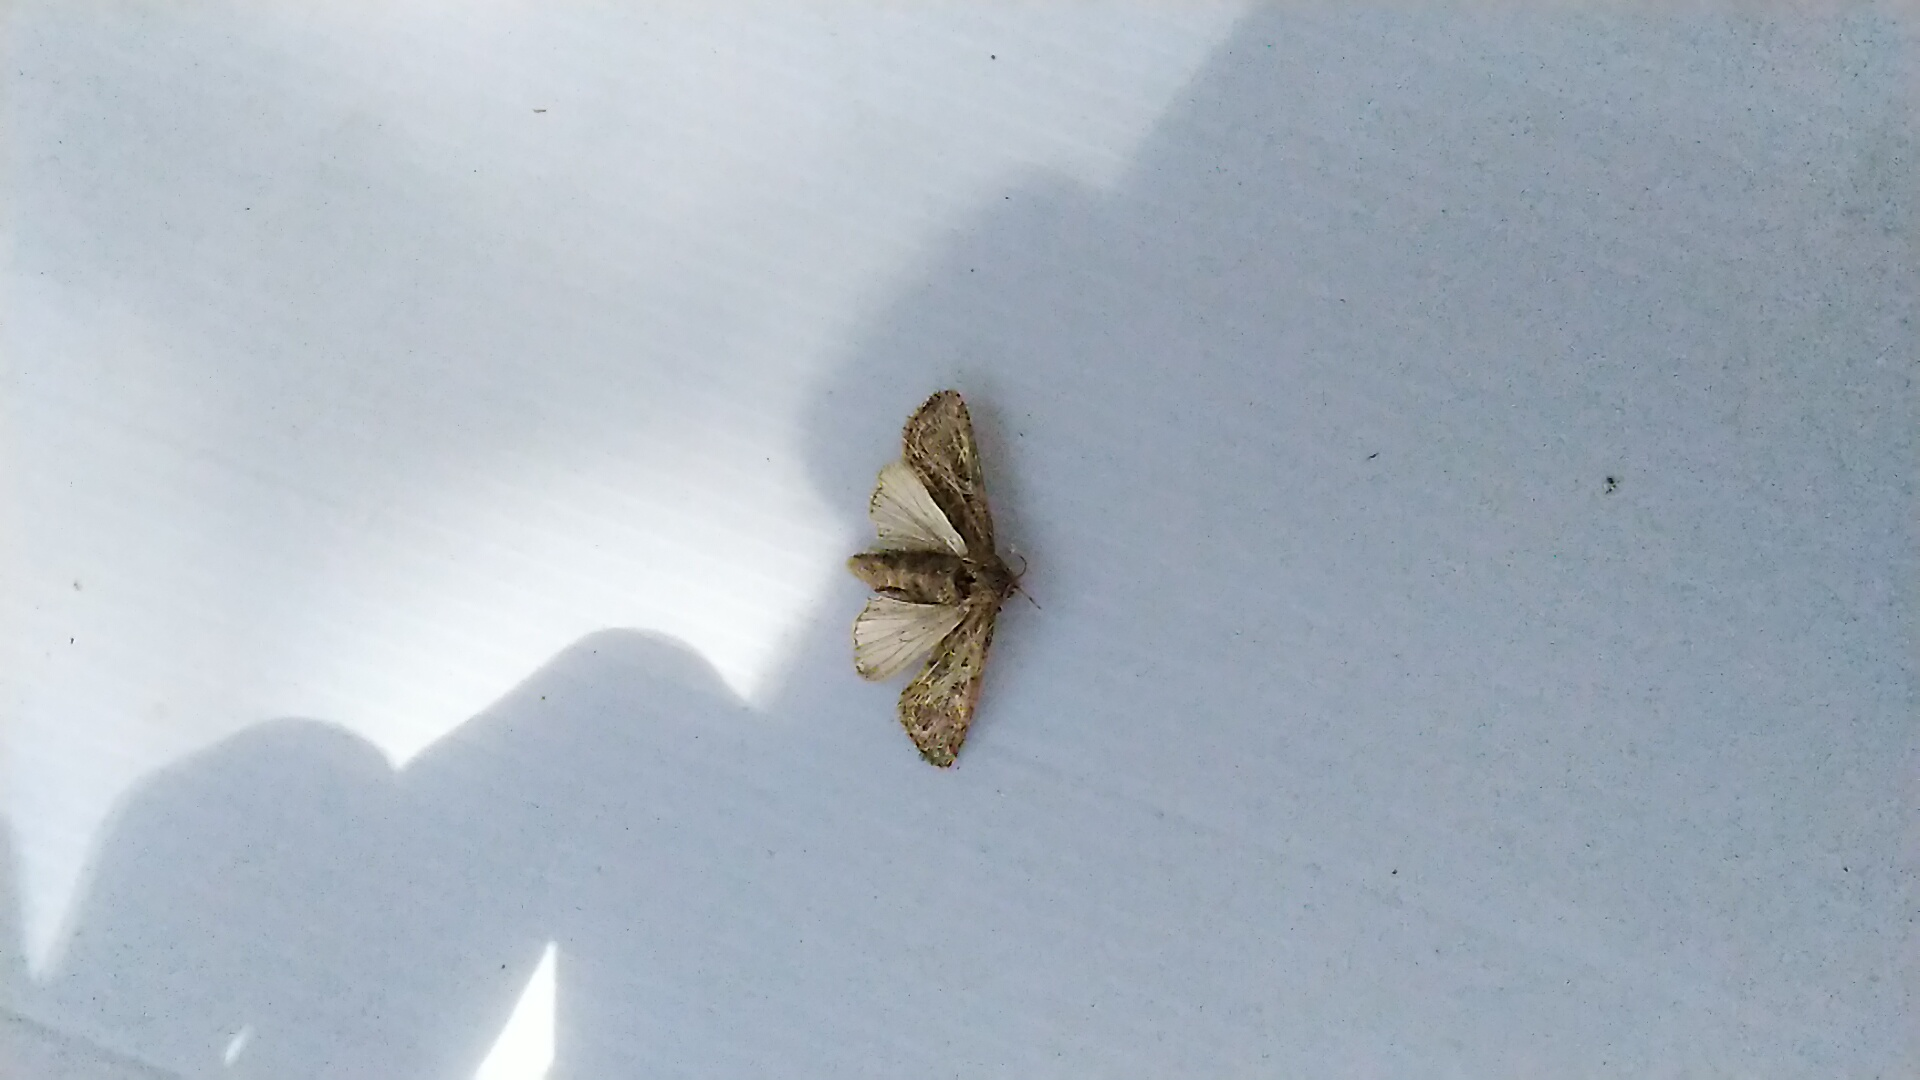INS-B: (849, 378, 1036, 791)
